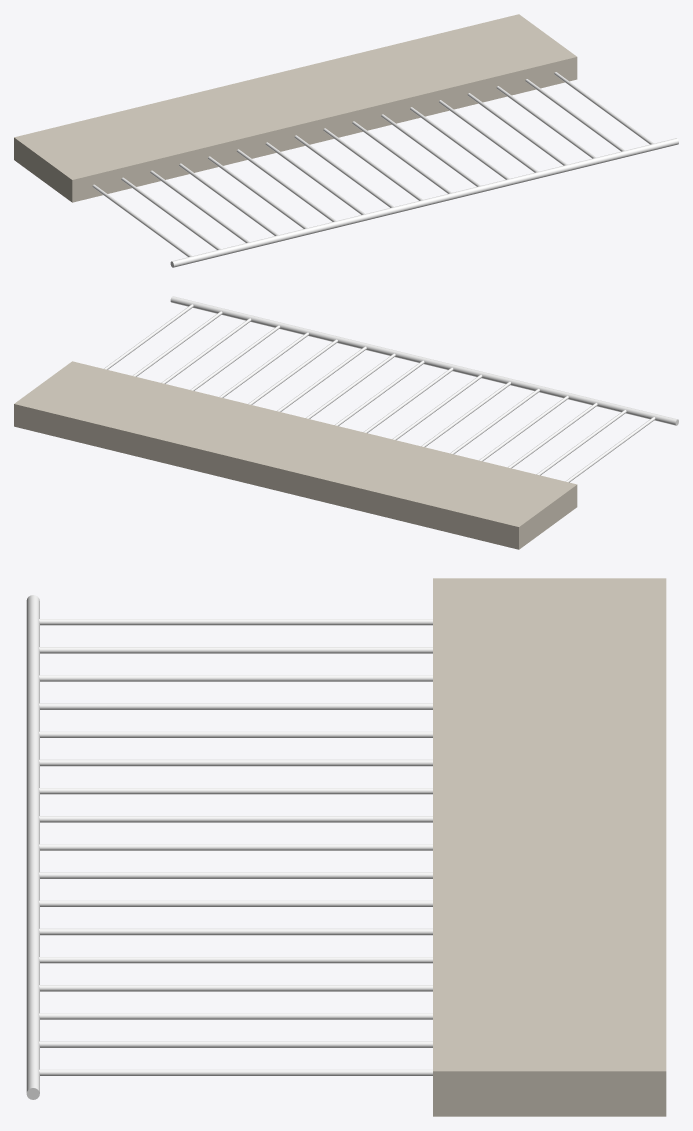
Rendered from Railing01.gltf.
3 views of the same model, one above another, from view 1: azimuth 30°, elevation 25°; view 2: azimuth 150°, elevation 25°; view 3: azimuth 270°, elevation 25° (orthographic). The views are drawn at different scales.
Visible parts, largest first — view 1: SIP, Railing (×18); view 2: SIP, Railing (×18); view 3: SIP, Railing (×18).
Part boxes in pixels (<box>): SIP: <box>14,14,577,202</box>; Railing (×18): <box>92,72,678,267</box>; SIP: <box>14,361,577,549</box>; Railing (×18): <box>104,296,678,482</box>; SIP: <box>433,578,666,1116</box>; Railing (×18): <box>26,595,432,1099</box>.
Bounding box in the file's own units: 3.5 × 0.15 × 1.92.
